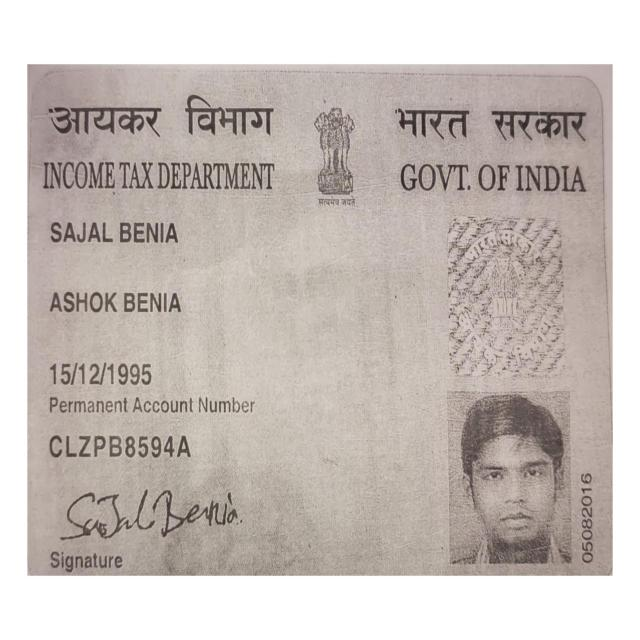pan_card: (27, 66, 614, 576)
